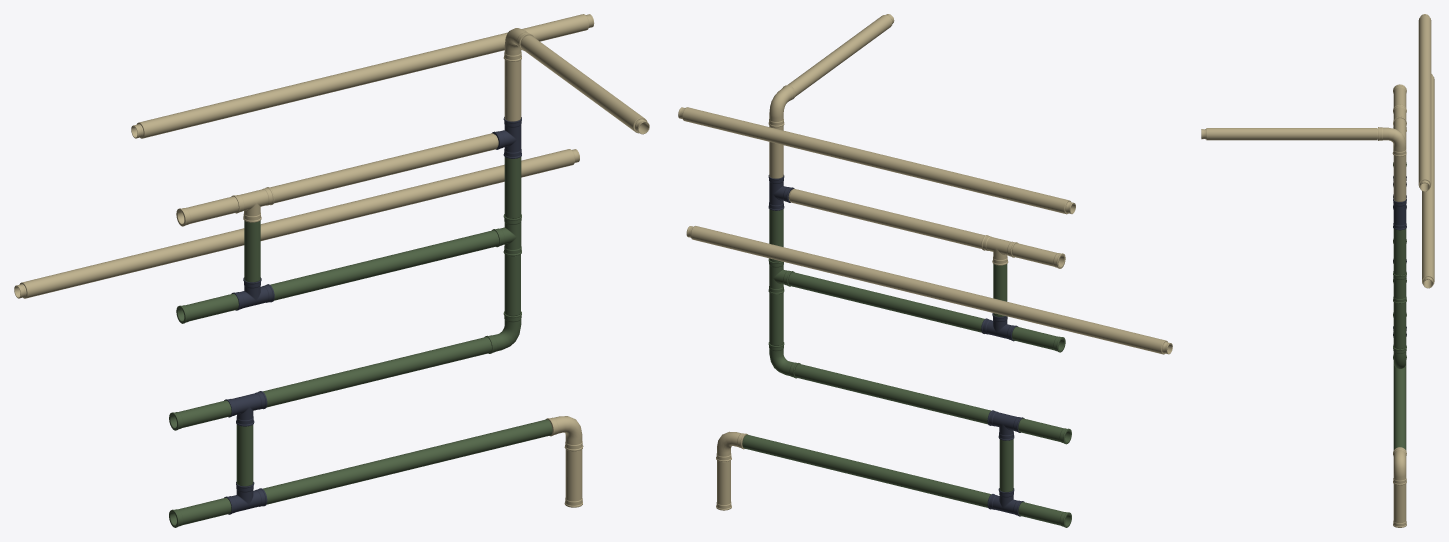
The model's file is Pipes.fbx.
3 views of the same model, side by side, from view 1: azimuth 30°, elevation 25°; view 2: azimuth 150°, elevation 25°; view 3: azimuth 270°, elevation 25° (orthographic). The views are drawn at different scales.
Visible parts, largest first — view 1: pipes; view 2: pipes; view 3: pipes.
Part boxes in pixels (x1=…): pipes: x1=14, y1=14, x2=649, y2=527; pipes: x1=678, y1=14, x2=1172, y2=527; pipes: x1=1201, y1=14, x2=1434, y2=527.
Size of the model in its own units: 79.1 by 65.54 by 36.96.
